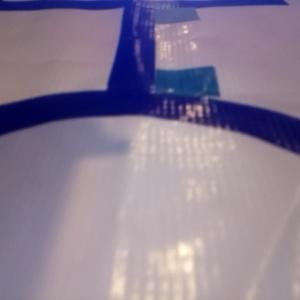bottom_right: (123, 1, 200, 24)
top_right: (113, 65, 220, 114)
